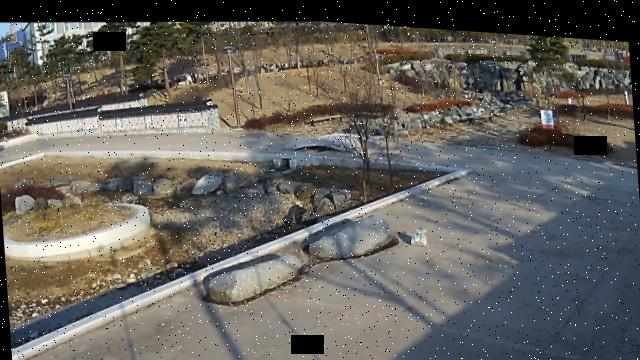trash: (409, 220, 429, 240)
